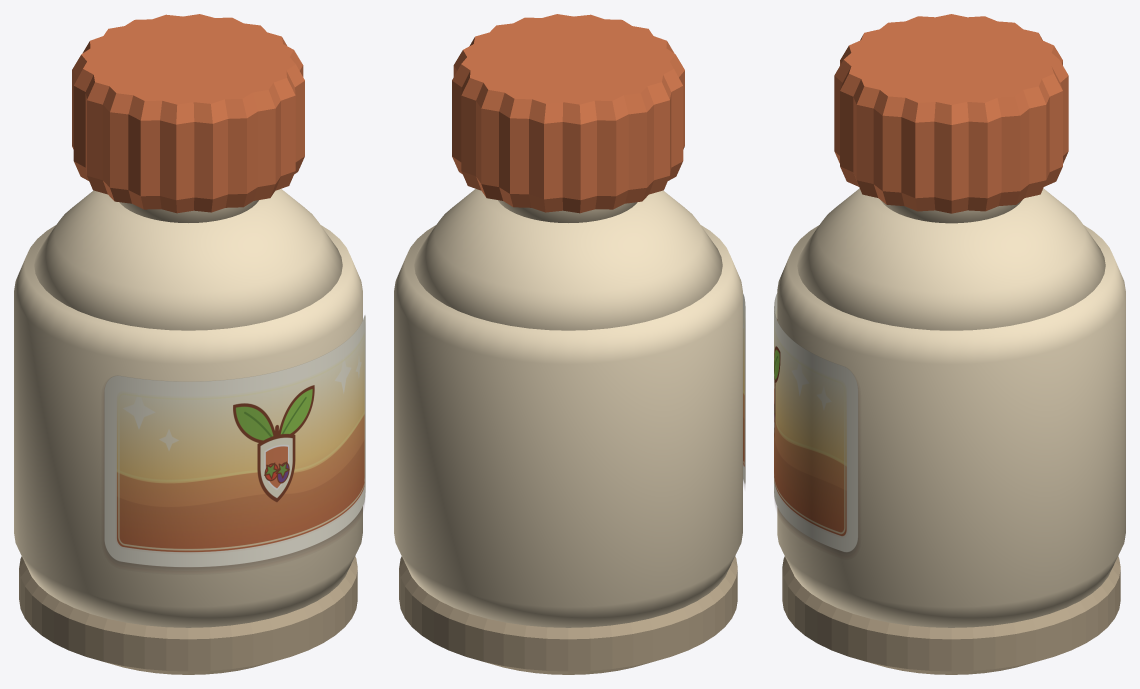
File: LiquidPreparationBottleTomatoEggplantResistance.glb
3 views of the same model, side by side, from view 1: azimuth 30°, elevation 25°; view 2: azimuth 150°, elevation 25°; view 3: azimuth 270°, elevation 25° (orthographic).
Parts seen in each view (by area): view 1: LiquidPreparationBottleTomatoEggplantResistance_Body, LiquidPreparationBottleTomatoEggplantResistance_Label, LiquidPreparationBottleTomatoEggplantResistance_Cap, LiquidPreparationBottleTomatoEggplantResistance_Shoulder, LiquidPreparationBottleTomatoEggplantResistance_Base_Rim, LiquidPreparationBottleTomatoEggplantResistance_Neck; view 2: LiquidPreparationBottleTomatoEggplantResistance_Body, LiquidPreparationBottleTomatoEggplantResistance_Cap, LiquidPreparationBottleTomatoEggplantResistance_Shoulder, LiquidPreparationBottleTomatoEggplantResistance_Base_Rim, LiquidPreparationBottleTomatoEggplantResistance_Neck, LiquidPreparationBottleTomatoEggplantResistance_Label; view 3: LiquidPreparationBottleTomatoEggplantResistance_Body, LiquidPreparationBottleTomatoEggplantResistance_Cap, LiquidPreparationBottleTomatoEggplantResistance_Shoulder, LiquidPreparationBottleTomatoEggplantResistance_Label, LiquidPreparationBottleTomatoEggplantResistance_Base_Rim, LiquidPreparationBottleTomatoEggplantResistance_Neck.
Part boxes in pixels (left/top/right/bottom): LiquidPreparationBottleTomatoEggplantResistance_Body: left=14, top=225, right=362, bottom=627; LiquidPreparationBottleTomatoEggplantResistance_Label: left=104, top=315, right=365, bottom=570; LiquidPreparationBottleTomatoEggplantResistance_Cap: left=72, top=14, right=304, bottom=213; LiquidPreparationBottleTomatoEggplantResistance_Shoulder: left=34, top=189, right=342, bottom=330; LiquidPreparationBottleTomatoEggplantResistance_Base_Rim: left=19, top=556, right=357, bottom=674; LiquidPreparationBottleTomatoEggplantResistance_Neck: left=119, top=200, right=258, bottom=222; LiquidPreparationBottleTomatoEggplantResistance_Body: left=394, top=225, right=742, bottom=627; LiquidPreparationBottleTomatoEggplantResistance_Cap: left=452, top=14, right=684, bottom=213; LiquidPreparationBottleTomatoEggplantResistance_Shoulder: left=414, top=189, right=722, bottom=330; LiquidPreparationBottleTomatoEggplantResistance_Base_Rim: left=399, top=556, right=737, bottom=674; LiquidPreparationBottleTomatoEggplantResistance_Neck: left=498, top=200, right=637, bottom=222; LiquidPreparationBottleTomatoEggplantResistance_Label: left=743, top=293, right=745, bottom=485; LiquidPreparationBottleTomatoEggplantResistance_Body: left=777, top=225, right=1125, bottom=627; LiquidPreparationBottleTomatoEggplantResistance_Cap: left=834, top=14, right=1068, bottom=213; LiquidPreparationBottleTomatoEggplantResistance_Shoulder: left=797, top=188, right=1105, bottom=330; LiquidPreparationBottleTomatoEggplantResistance_Label: left=774, top=293, right=858, bottom=554; LiquidPreparationBottleTomatoEggplantResistance_Base_Rim: left=782, top=556, right=1120, bottom=674; LiquidPreparationBottleTomatoEggplantResistance_Neck: left=881, top=200, right=1021, bottom=223.
Bounding box in the file's own units: 0.69 × 1.23 × 0.696.
Materials: 5 (1 with a texture image).
